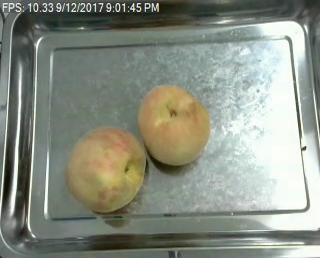Peach: (64, 126, 147, 213), (138, 84, 210, 166)
